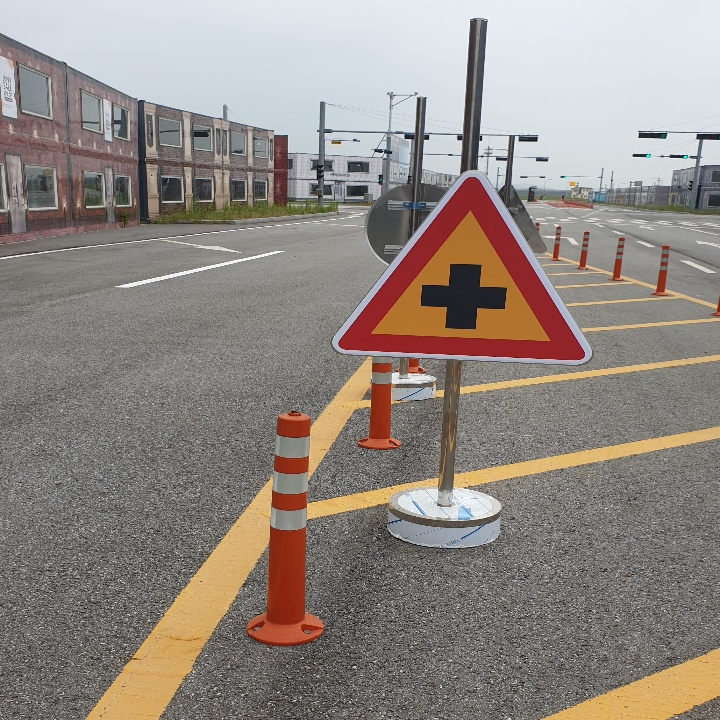inter: (419, 256, 514, 339)
